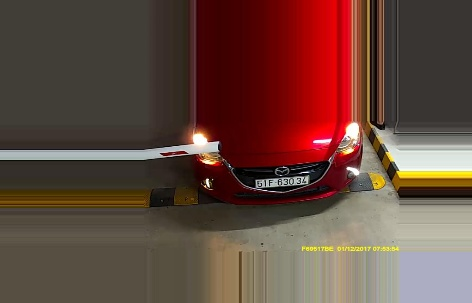plate: (253, 175, 311, 188)
